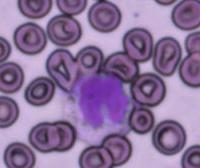N: (68, 72, 130, 134)
